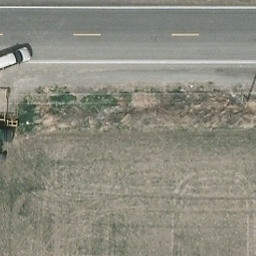car: (0, 43, 34, 74)
tractor: (0, 124, 16, 163)
